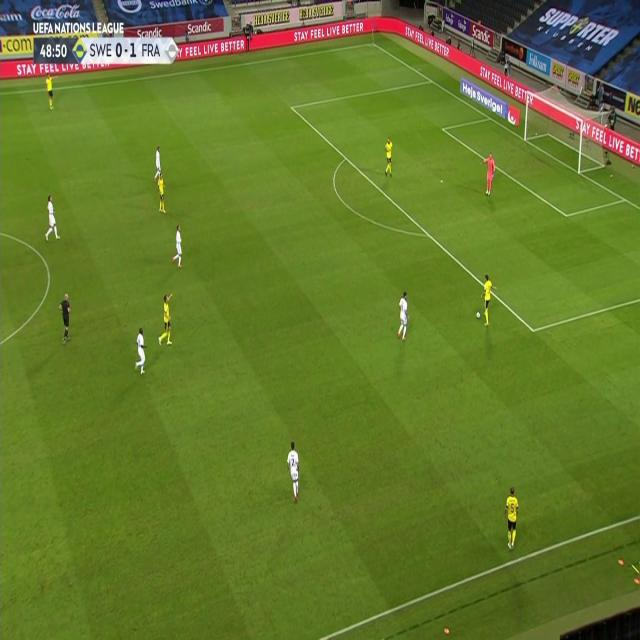ball: (474, 309, 480, 319)
player: (502, 484, 520, 552), (284, 441, 302, 505), (476, 273, 496, 327), (157, 292, 174, 348), (58, 290, 72, 346), (44, 194, 60, 242), (395, 289, 410, 340), (133, 325, 148, 376), (482, 150, 496, 196), (171, 223, 184, 269), (155, 172, 167, 214), (383, 135, 394, 177), (45, 72, 55, 111), (153, 145, 163, 182)
